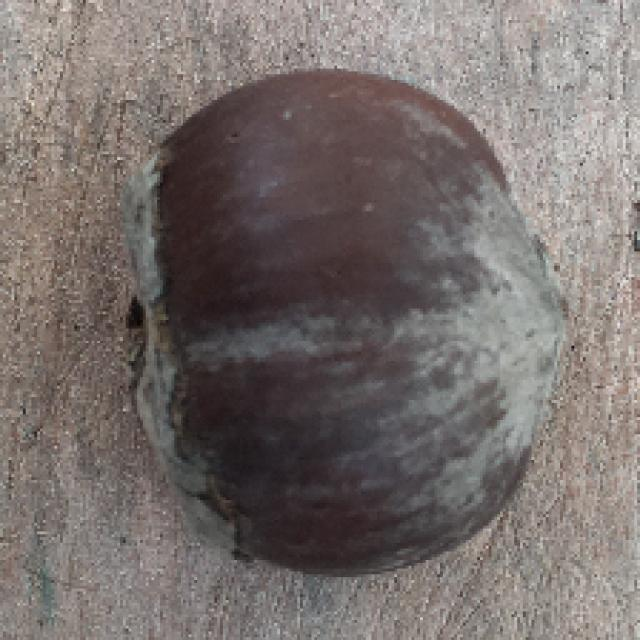DamagedHazelnut: (125, 73, 573, 580)
